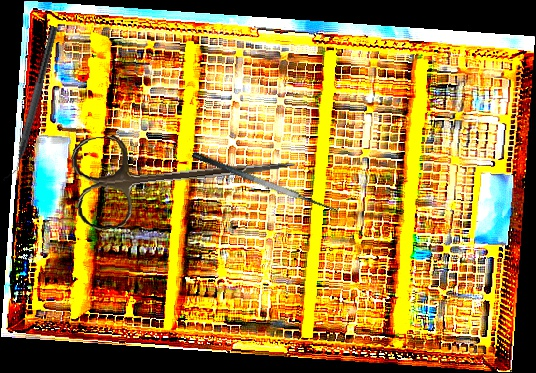Chopper: (1, 23, 59, 185)
Iris Scissors: (69, 113, 300, 233)
Spatula Surgical: (190, 138, 344, 220)
